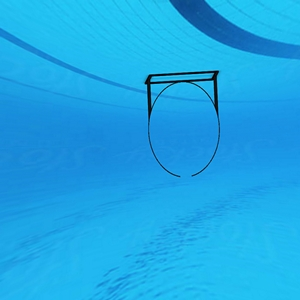circle: (143, 69, 223, 180)
